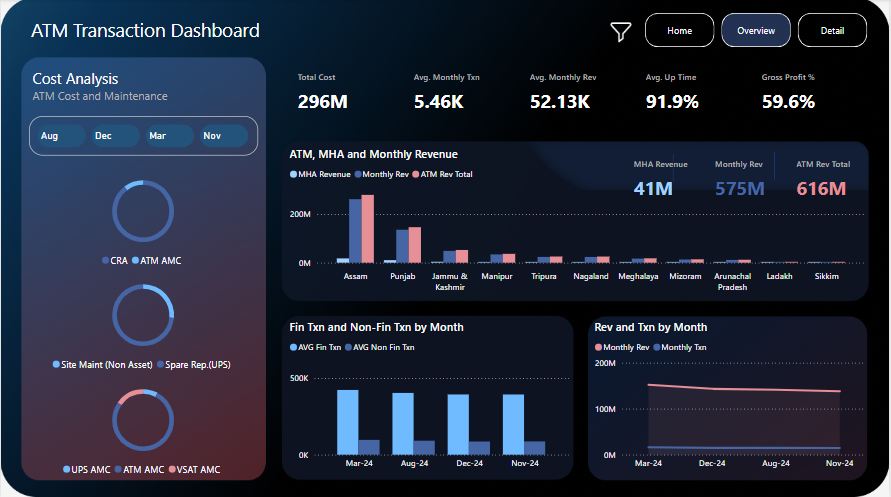

Layout of this report page (visuals, bound fields, positions):
{"tool":"powerbi","page":{"name":"Overview","canvas":[1280,720],"ordinal":1},"visuals":[{"type":"donutChart","fields":{"Y":["Sum(Dataset.CRA)","Sum(Dataset.ATM AMC)"]},"box":[23.8,244.4,360.3,150.8],"z":0},{"type":"donutChart","fields":{"Y":["Sum(Dataset.Site Maint (Non Asset))","Sum(Dataset.Spare Rep.(UPS))"]},"box":[23.8,395.2,360.3,150.8],"z":1000},{"type":"donutChart","fields":{"Y":["Sum(Dataset.UPS AMC)","Sum(Dataset.ATM AMC)","Sum(Dataset.VSAT AMC)"]},"box":[23.8,546,360.3,150.8],"z":2000},{"type":"clusteredColumnChart","title":"ATM, MHA and Monthly Revenue","fields":{"Y":["Sum(Dataset.MHA Revenue)","Sum(Dataset.Monthly Rev)","Sum(Dataset.ATM Rev Total)"],"Category":["Dataset.STATE"]},"box":[411.1,211.1,838.1,219],"z":3000},{"type":"clusteredColumnChart","title":"Fin Txn and Non-Fin Txn by Month","fields":{"Y":["Sum(Dataset.AVG Fin Txn)","Sum(Dataset.AVG Non Fin Txn)"],"Category":["Dataset.Month/Year"]},"box":[411.1,460.3,412.7,225.4],"z":4000},{"type":"areaChart","title":"Rev and Txn by Month","fields":{"Category":["Dataset.Month/Year"],"Y":["Sum(Dataset.Monthly Rev)","Sum(Dataset.Monthly Txn)"]},"box":[849.2,460.3,400,225.4],"z":5000},{"type":"advancedSlicerVisual","fields":{"Values":["Dataset.Short Month"]},"box":[39.7,168.3,330.2,57.1],"z":6000},{"type":"textbox","box":[39.7,95.2,360.3,58.7],"z":7000},{"type":"cardVisual","fields":{"Data":["Sum(Dataset. Total Cost  )","Avg(Dataset.Monthly Txn)","Avg(Dataset.Monthly Rev)","Avg(Dataset.Up Time)","Dataset.Gross Profit Percentage"]},"box":[411.1,82.5,838.1,103.2],"z":8000},{"type":"cardVisual","title":"MHA Revenue, Monthly Rev and ATM Rev Total by State","fields":{"Data":["Sum(Dataset.MHA Revenue)","Sum(Dataset.Monthly Rev)","Sum(Dataset.ATM Rev Total)"]},"box":[893.7,211.1,355.6,84.1],"z":9000},{"type":"pageNavigator","box":[927,20.6,322.2,49.2],"z":10000},{"type":"textbox","box":[31.7,20.6,352.4,49.2],"z":11000},{"type":"image","box":[869.8,20.6,46,54],"z":12000}]}

Visuals, with their boxes in screenshot pixels (x1, y1, x2, y2), scaled from the page's 1280x720 canvas onto the 891x497 screenshot:
donutChart - Sum(Dataset.CRA) x Sum(Dataset.ATM AMC): 17:169:267:273
donutChart - Sum(Dataset.Site Maint (Non Asset)) x Sum(Dataset.Spare Rep.(UPS)): 17:273:267:377
donutChart - Sum(Dataset.UPS AMC) x Sum(Dataset.ATM AMC): 17:377:267:481
"ATM, MHA and Monthly Revenue" clusteredColumnChart: 286:146:870:297
"Fin Txn and Non-Fin Txn by Month" clusteredColumnChart: 286:318:573:473
"Rev and Txn by Month" areaChart: 591:318:870:473
advancedSlicerVisual - Dataset.Short Month: 28:116:257:156
textbox: 28:66:278:106
cardVisual - Sum(Dataset. Total Cost  ) x Avg(Dataset.Monthly Txn): 286:57:870:128
"MHA Revenue, Monthly Rev and ATM Rev Total by State" cardVisual: 622:146:870:204
pageNavigator: 645:14:870:48
textbox: 22:14:267:48
image: 605:14:637:51
